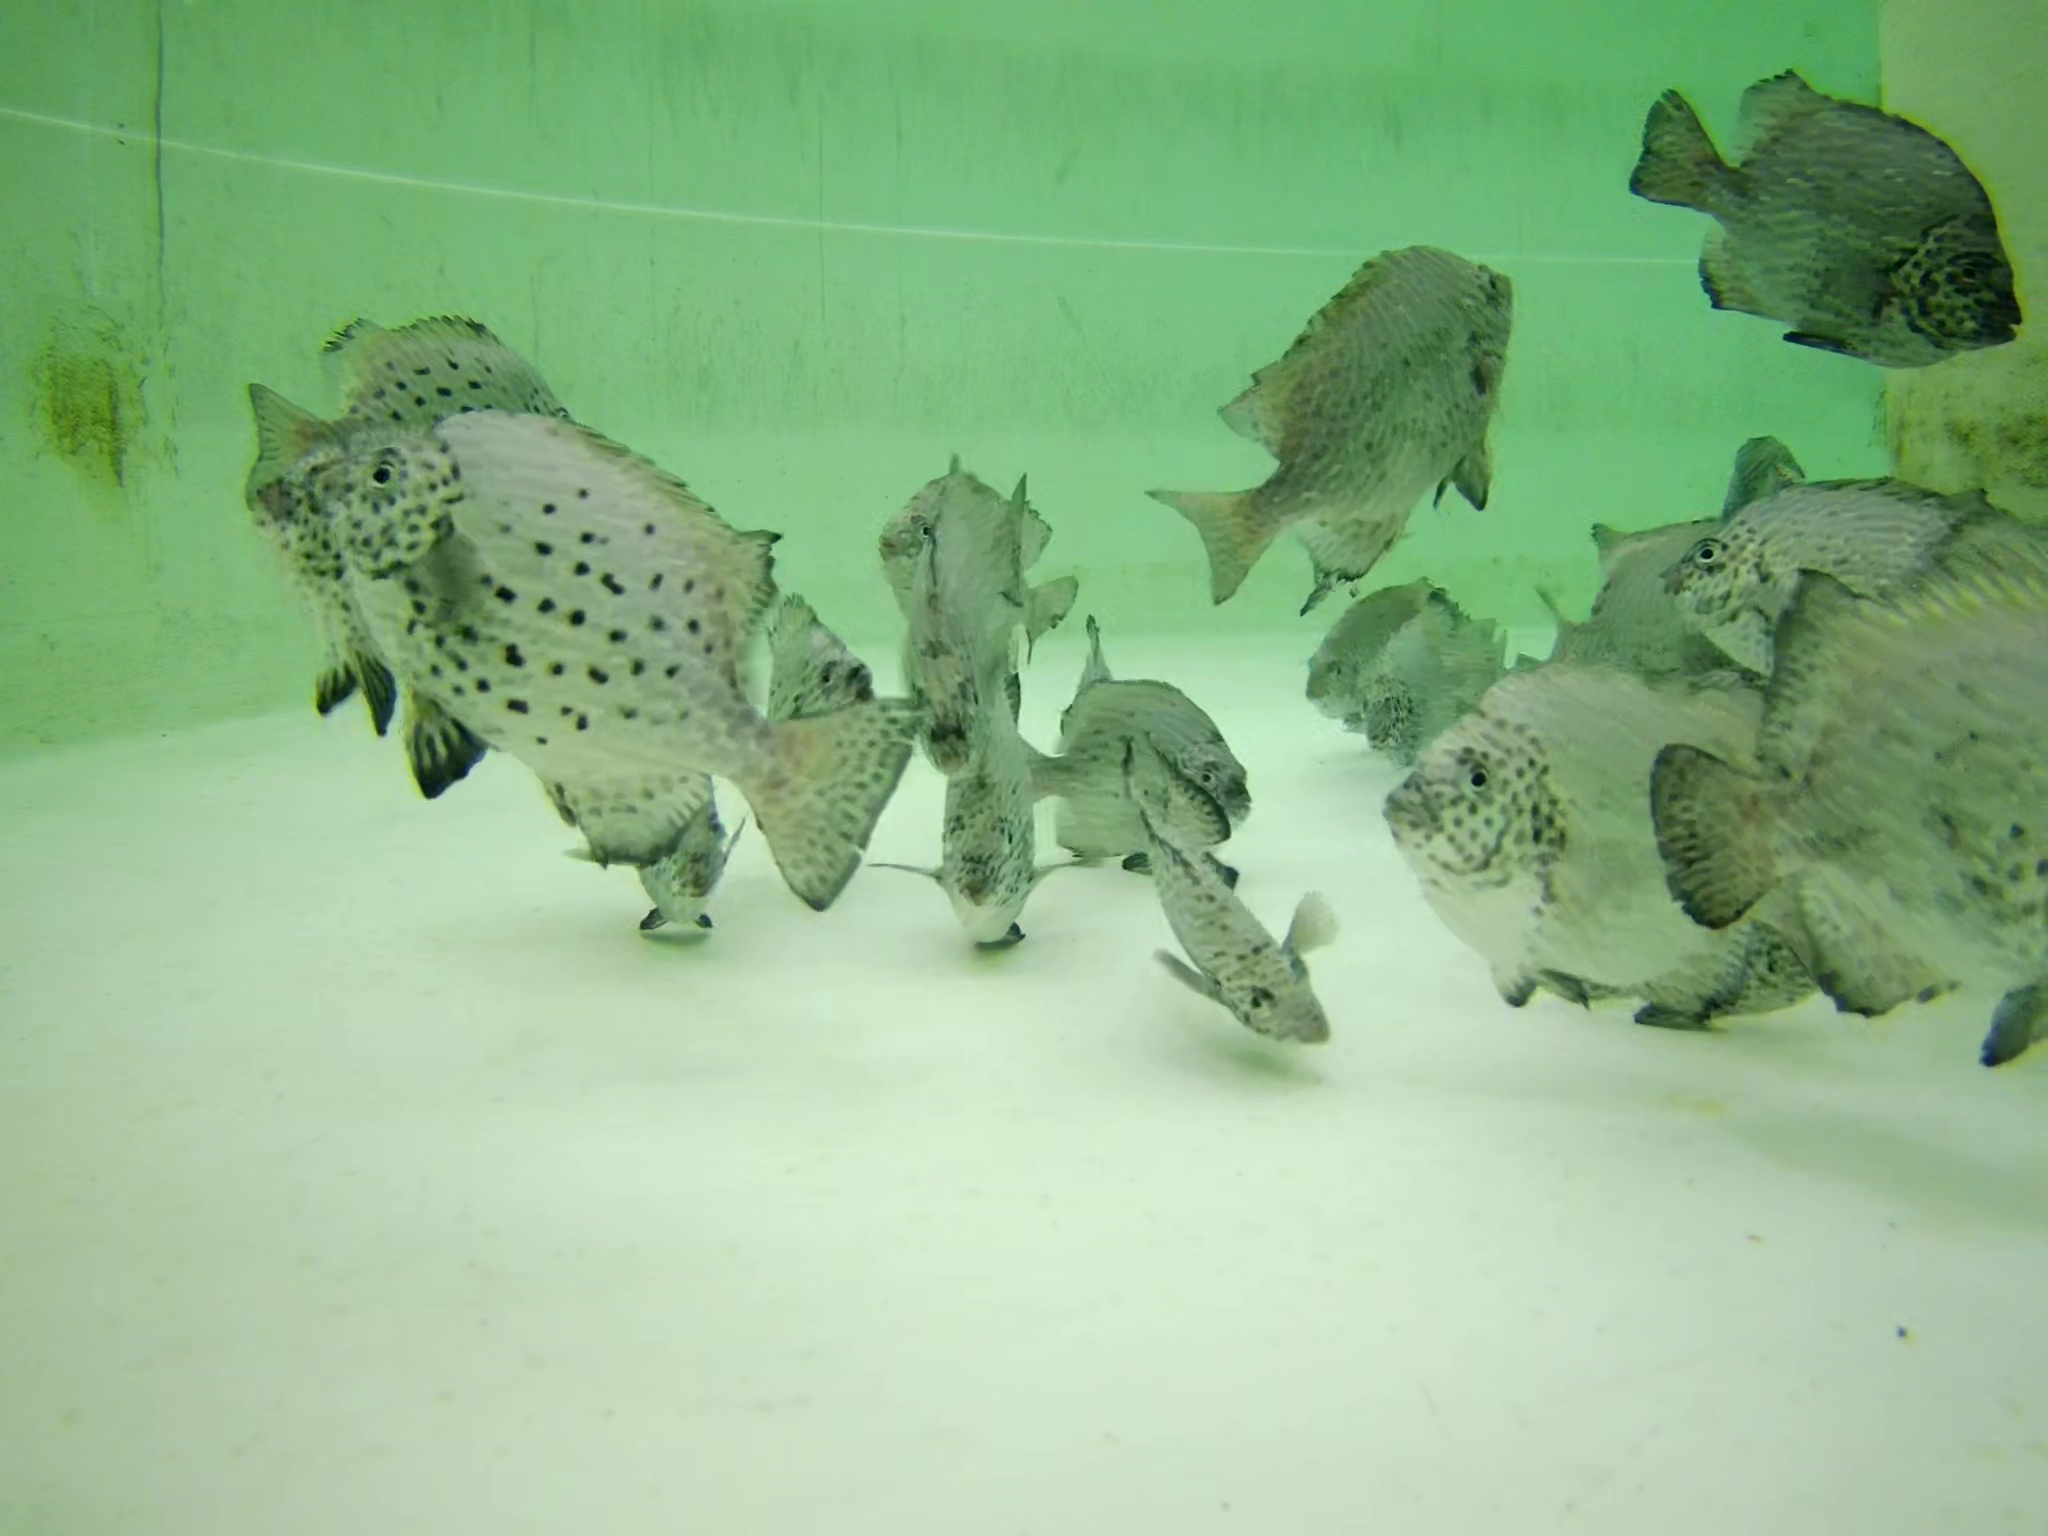fish: (339, 410, 922, 912), (1390, 628, 1979, 1000), (1648, 542, 2048, 1052), (1624, 44, 2029, 373), (1192, 202, 1514, 599), (231, 307, 564, 565), (1666, 487, 2032, 666), (1143, 808, 1356, 1055), (850, 455, 1090, 666), (905, 623, 1051, 944), (1040, 644, 1248, 870), (1538, 518, 1806, 676), (1379, 594, 1522, 770), (631, 741, 740, 944), (771, 594, 884, 779), (1306, 576, 1427, 731), (889, 616, 990, 768), (1118, 733, 1227, 858)
